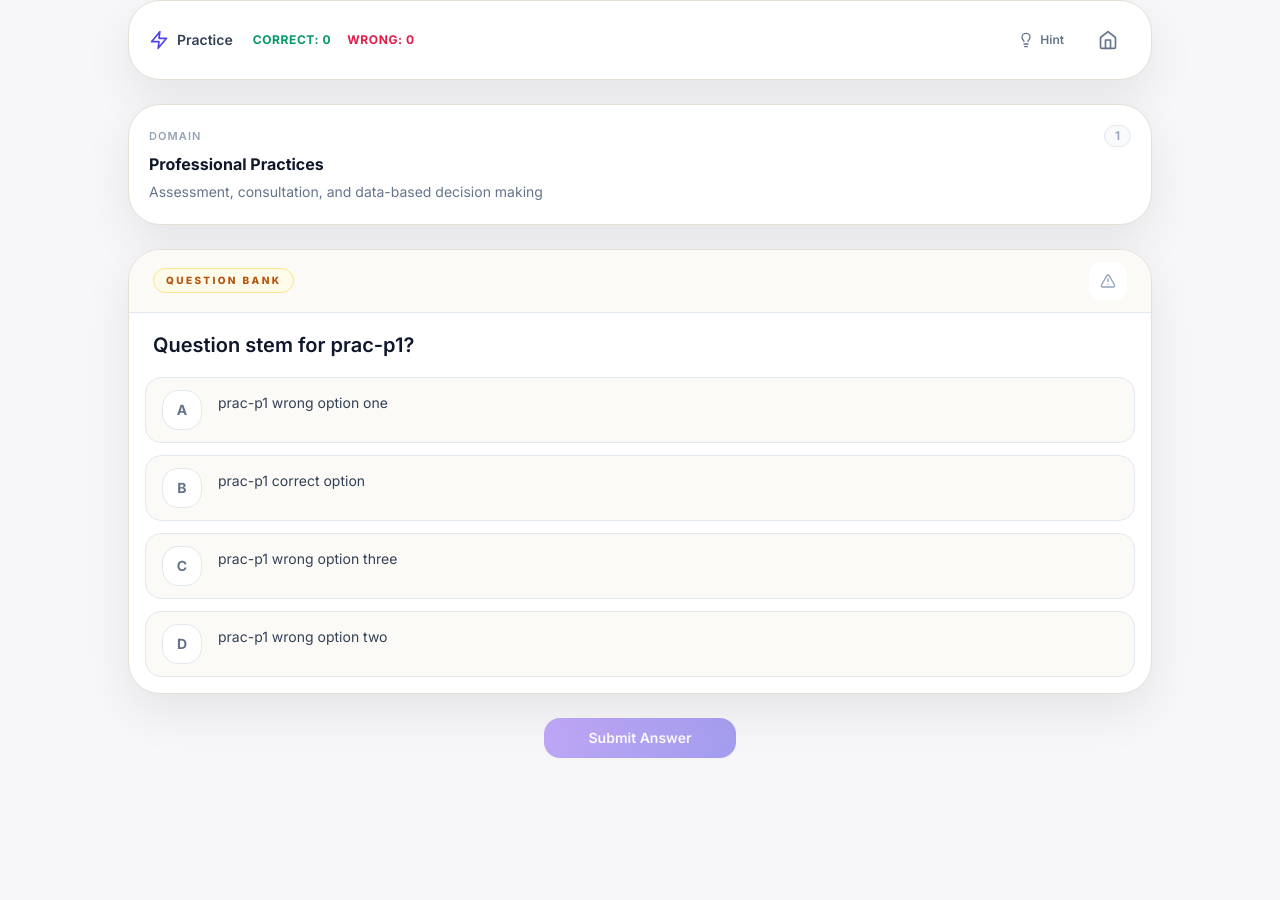
Test: PracticeSession — question retirement › retires a question on its 2nd correct answer once the first pass is complete
Click the text "prac-p1 correct option".
click(292, 480)  # box [218,472,365,489]
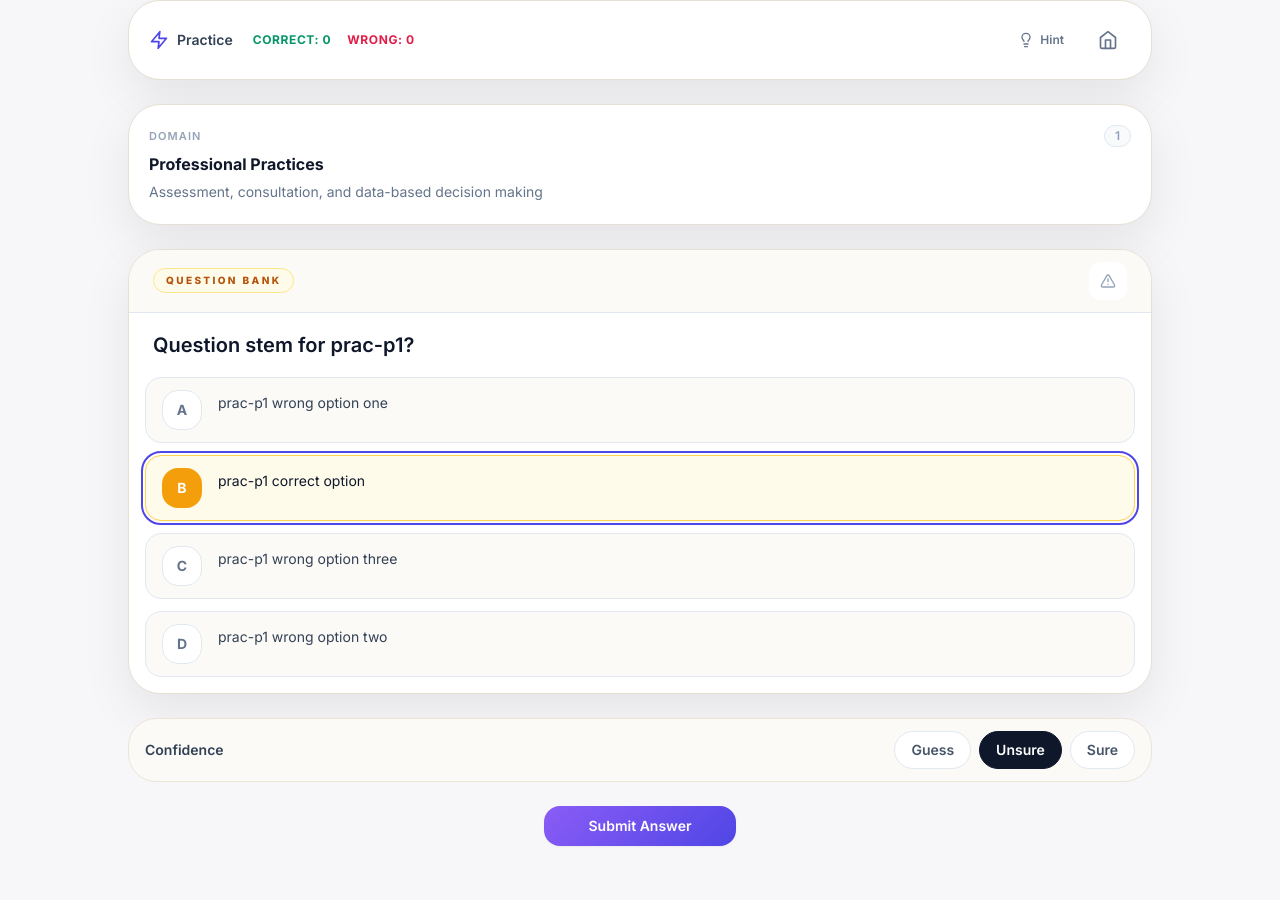
Click the button "Submit Answer".
click(640, 826)  # box [544,806,736,846]
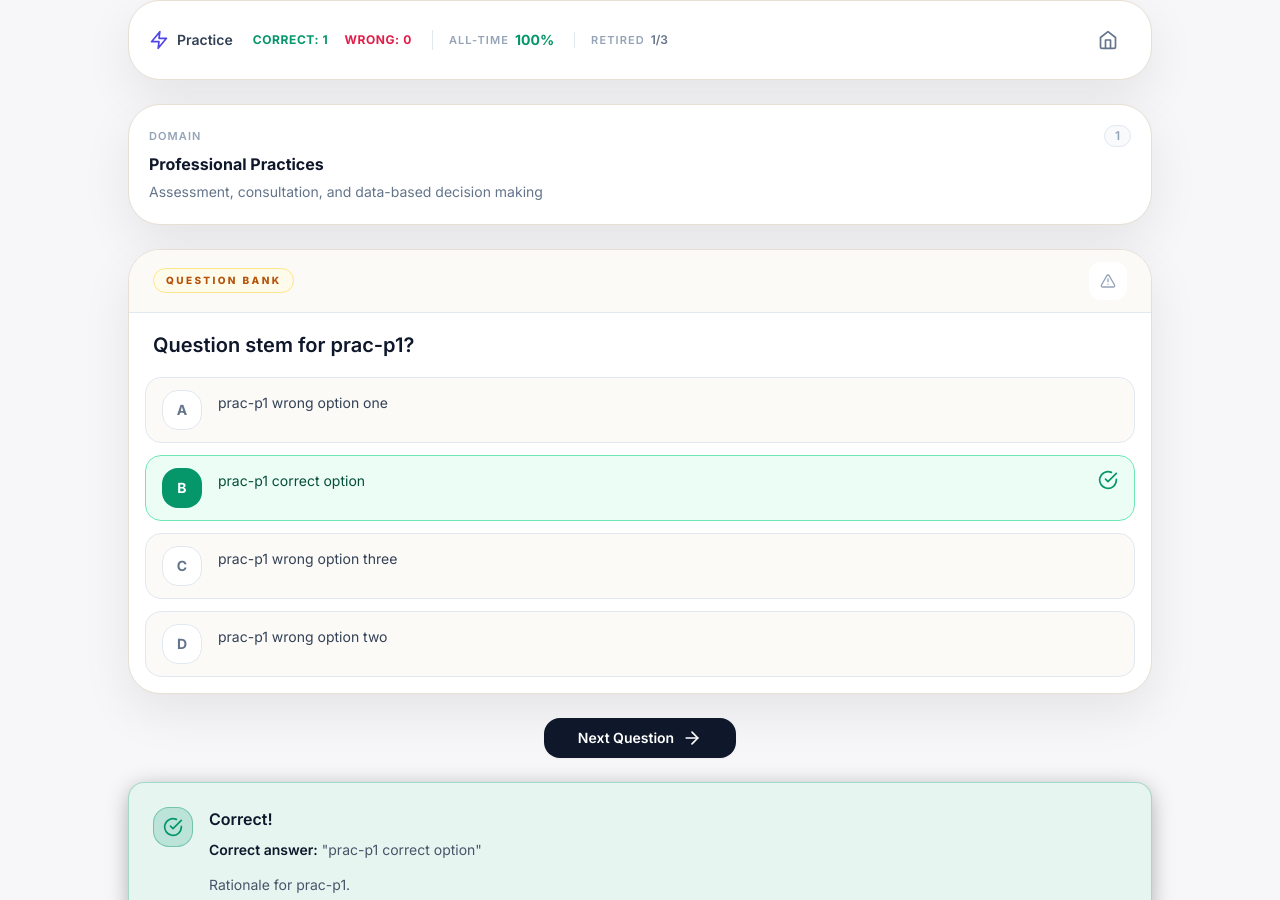
Expected: the text "Retired" is shown, [591,32,645,48]
Expected: the text "1/3" is shown, [651,32,668,48]
